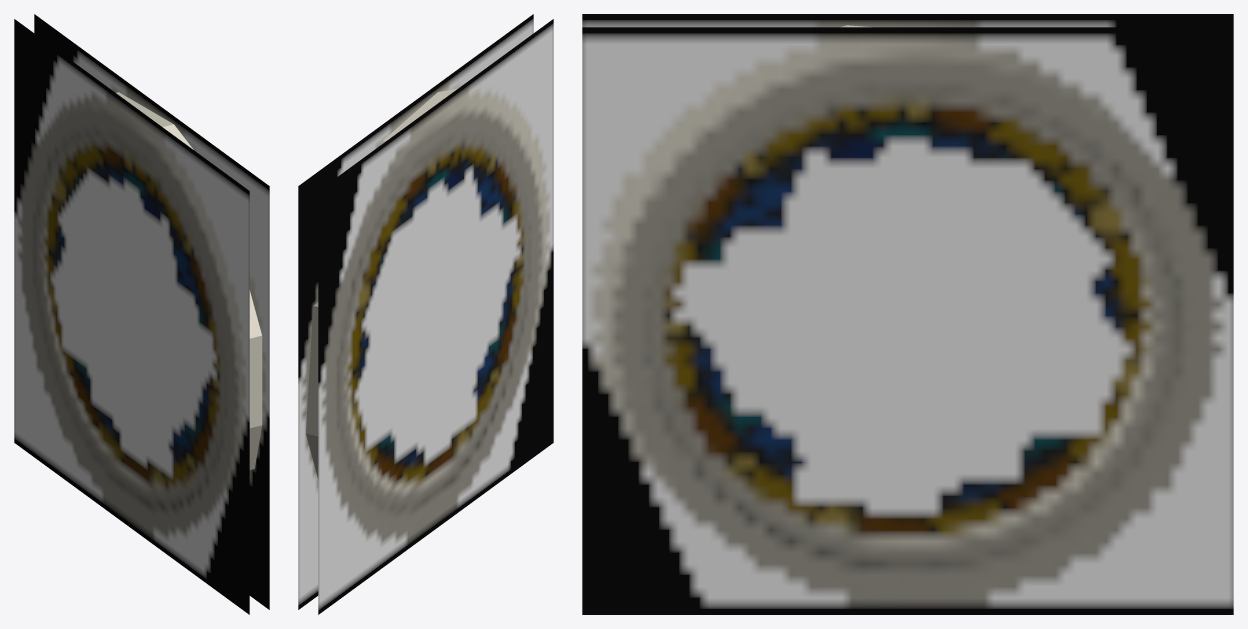
File: pz_native_fixtures_windows_church_94_frame.obj
3 renders of one model, left to right at view 1: azimuth 30°, elevation 25°; view 2: azimuth 150°, elevation 25°; view 3: azimuth 270°, elevation 25°, orthographic. The views are drawn at different scales.
Parts seen in each view (by area): view 1: pz_native_fixtures_windows_church_94_frame; view 2: pz_native_fixtures_windows_church_94_frame; view 3: pz_native_fixtures_windows_church_94_frame.
Part boxes in pixels (bbox=[...]): pz_native_fixtures_windows_church_94_frame: bbox=[14, 14, 269, 614]; pz_native_fixtures_windows_church_94_frame: bbox=[298, 14, 553, 614]; pz_native_fixtures_windows_church_94_frame: bbox=[582, 14, 1233, 614].
Size of the model in its own units: 0.04 by 0.8125 by 0.8165.
1 material, 1 textured.
